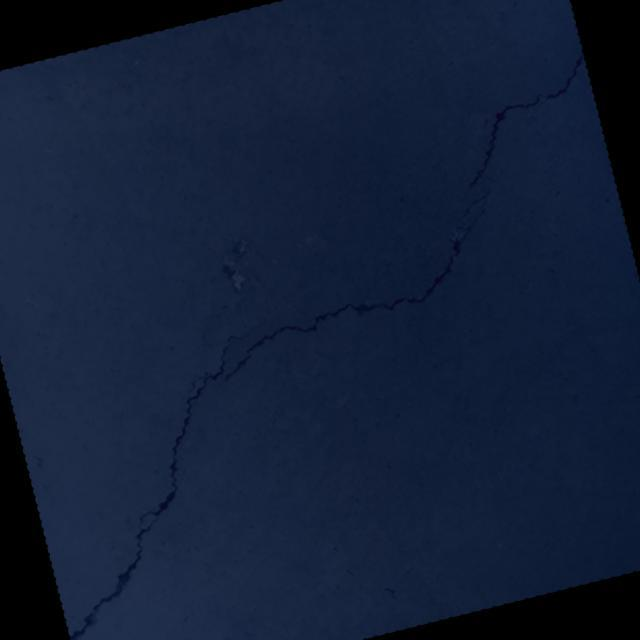crack: (7, 331, 306, 640), (190, 176, 524, 382), (430, 49, 612, 208)
